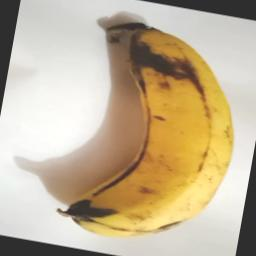Banana Unripe: (58, 10, 256, 255)
